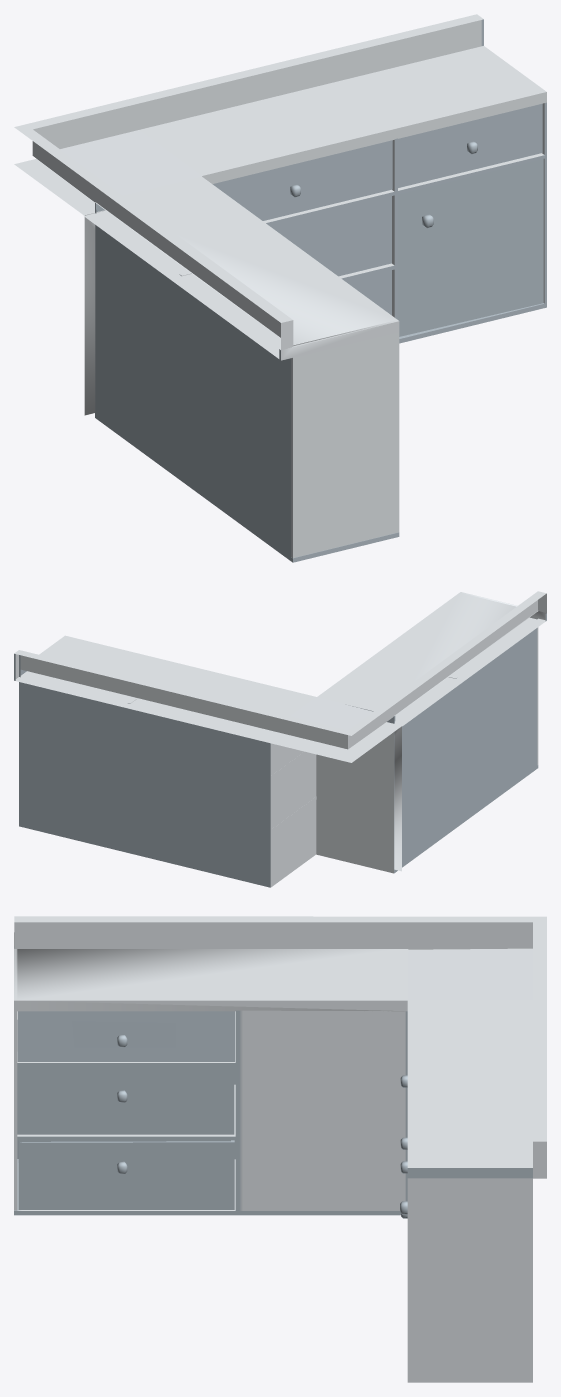
Rendered from Shelf.fbx.
3 renders of one model, top to bottom at view 1: azimuth 30°, elevation 25°; view 2: azimuth 150°, elevation 25°; view 3: azimuth 270°, elevation 25°, orthographic. The views are drawn at different scales.
Visible parts, largest first — view 1: Shelf, drawer.016, drawer.005, drawer.006, drawer.014, drawer.015; view 2: Shelf; view 3: Shelf, drawer.014, drawer.007, drawer.008.
Part boxes in pixels (x1,y1,x2,y2): Shelf: (14, 14, 546, 562); drawer.016: (398, 159, 543, 336); drawer.005: (212, 140, 392, 220); drawer.006: (398, 103, 542, 187); drawer.014: (270, 196, 391, 276); drawer.015: (345, 270, 391, 315); Shelf: (14, 591, 546, 887); Shelf: (14, 916, 546, 1382); drawer.014: (18, 1137, 407, 1209); drawer.007: (17, 1066, 234, 1134); drawer.008: (17, 1011, 234, 1061).
Size of the model in its own units: 200 by 100 by 200.
